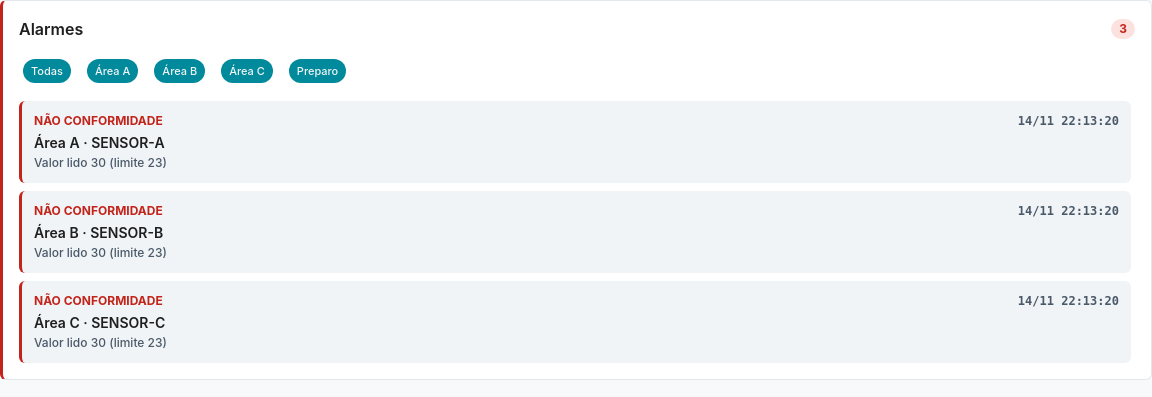
AlarmsWidget › chip "Todas" (toggle-all) › isolar em 2 toques: tap "Todas" (limpa) -> tap área X -> só alarmes de X; "Todas" volta a "mixed"
Step 1. Click the button "Todas" → (47, 71), box [19,53,75,89]
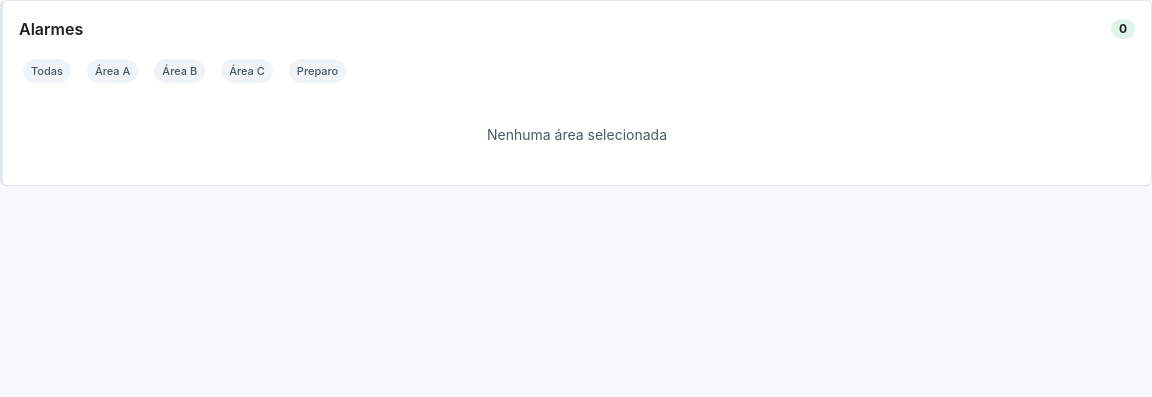
Step 2. Click the button "Área B" → (180, 71), box [150,53,209,89]
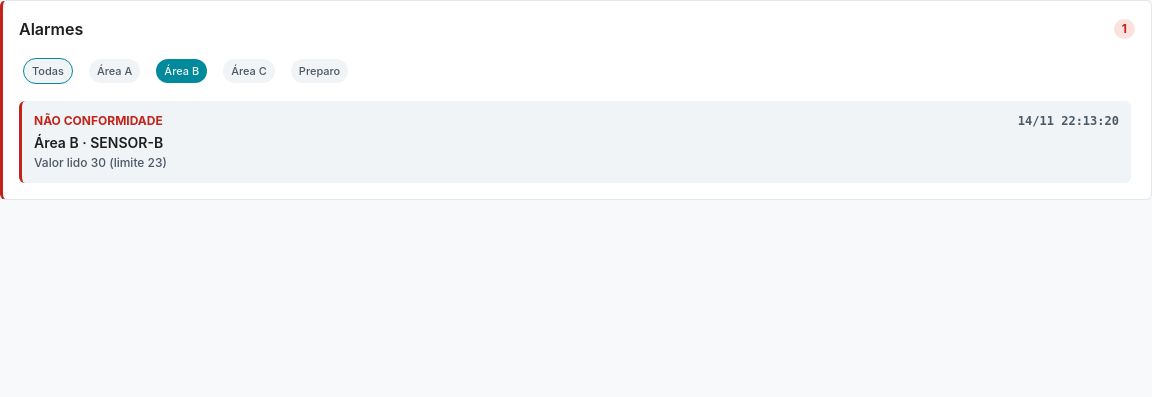
Expected: the text "SENSOR-A" is not shown
Expected: the text "Área B · SENSOR-B" is shown, [34,134,163,151]
